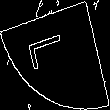L_E: (31, 33, 79, 77)
